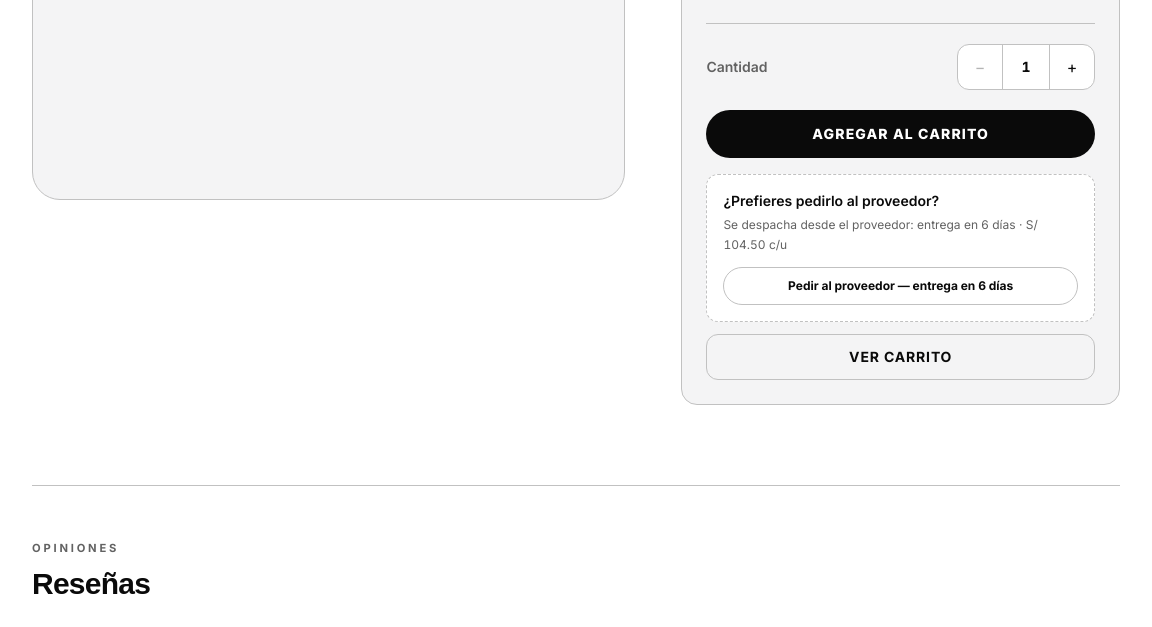
Test case: pedir al proveedor aunque haya stock › si la empresa lo apagó entretanto, se dice la negativa del servidor
The image size is (1152, 627).
(page scrolled)
Click the button "Pedir al proveedor — entrega en 6 días".
click(901, 286)  # box x1=723 y1=267 x2=1078 y2=305
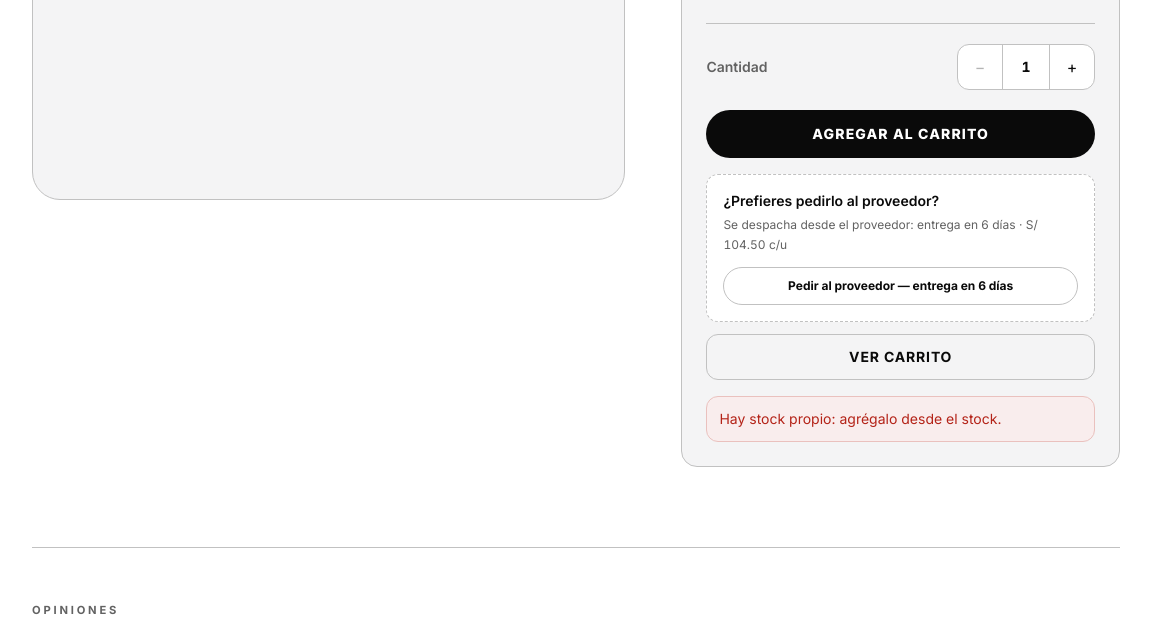
Expected: the message reads "Hay stock propio: agrégalo desde el stock.", x1=719 y1=410 x2=1002 y2=427
